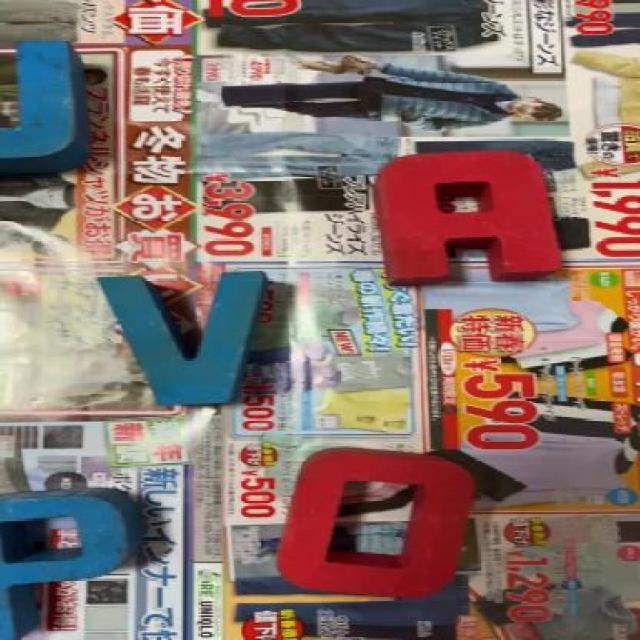A: (383, 151, 569, 280)
O: (276, 447, 478, 596)
V: (101, 270, 270, 408)
